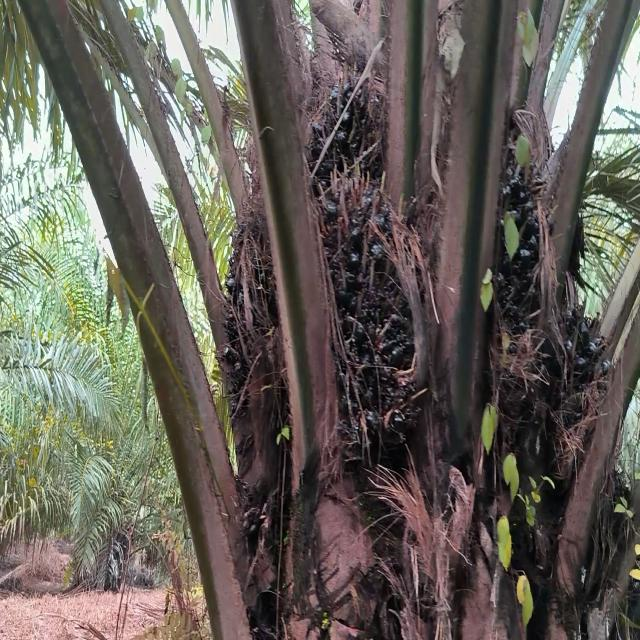palm-oil: (305, 171, 423, 467), (215, 193, 292, 458), (539, 280, 619, 530), (305, 73, 392, 290), (489, 143, 545, 466)
